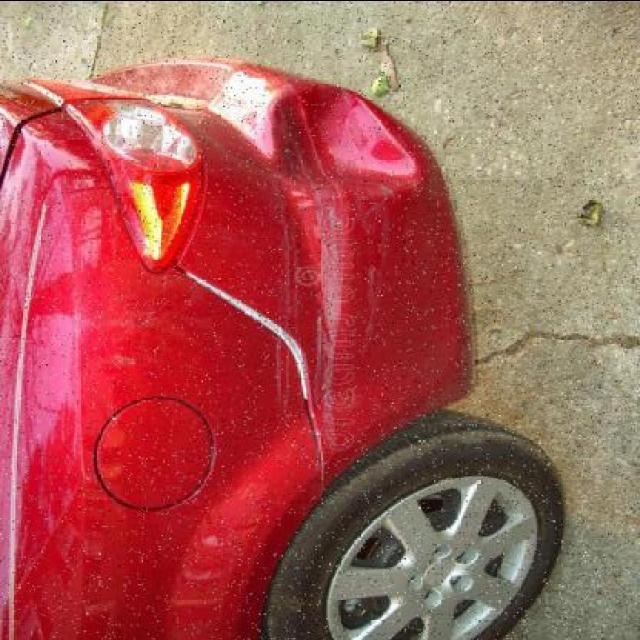rear-bumper-dent: (219, 73, 482, 471)
